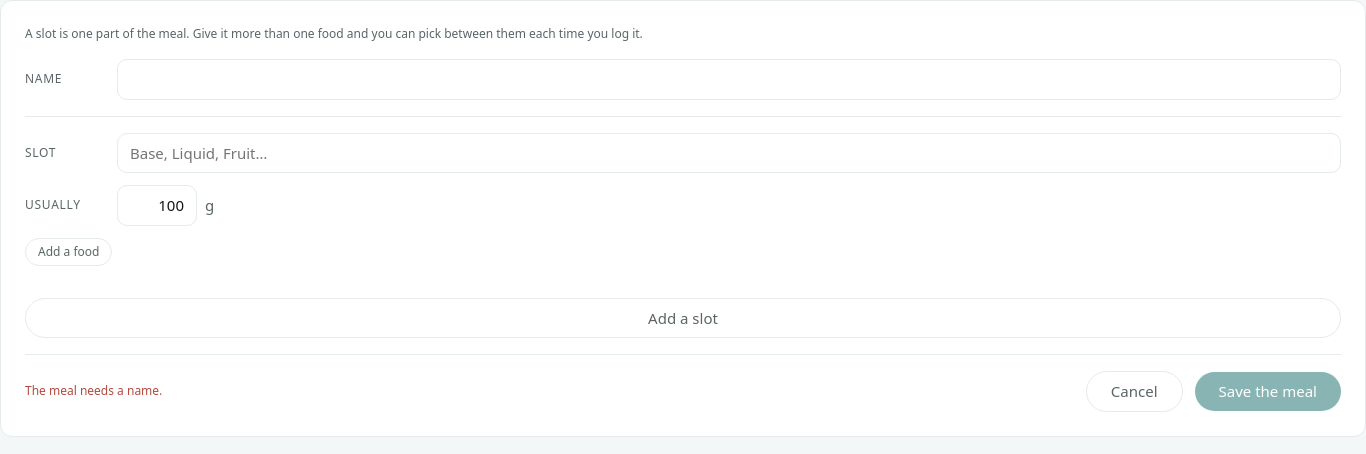
Test: MealTemplateForm › falls back to a slot number before the slot is named
The width and height of the screenshot is (1366, 454).
Step 1. Type "Breakfast" into the field with id "template-name" → (729, 79), box x1=117 y1=59 x2=1341 y2=100
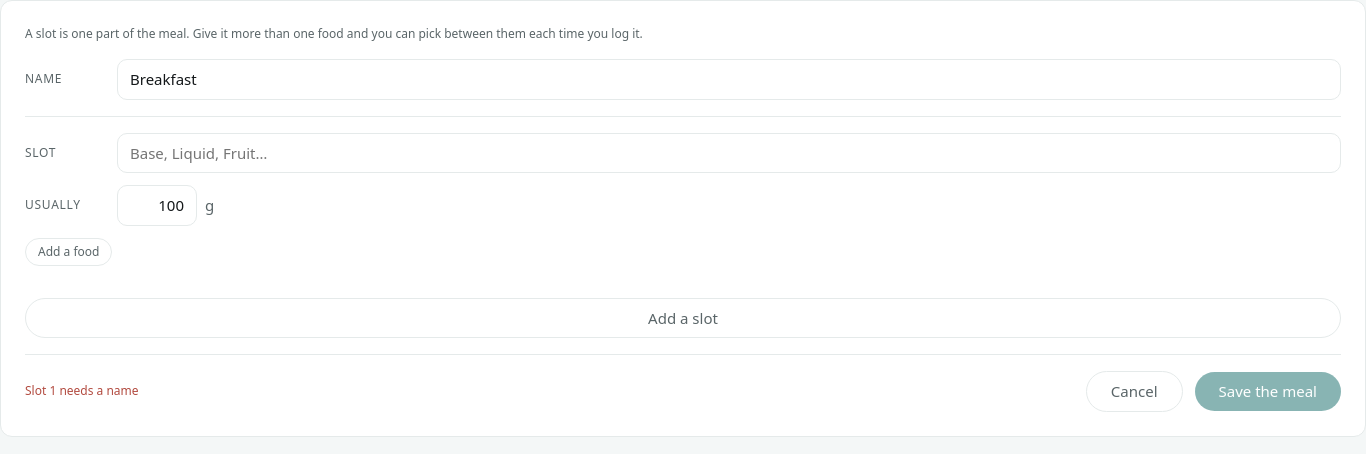
Check: the text "Slot 1 needs a name" is shown, box x1=25 y1=382 x2=139 y2=400
